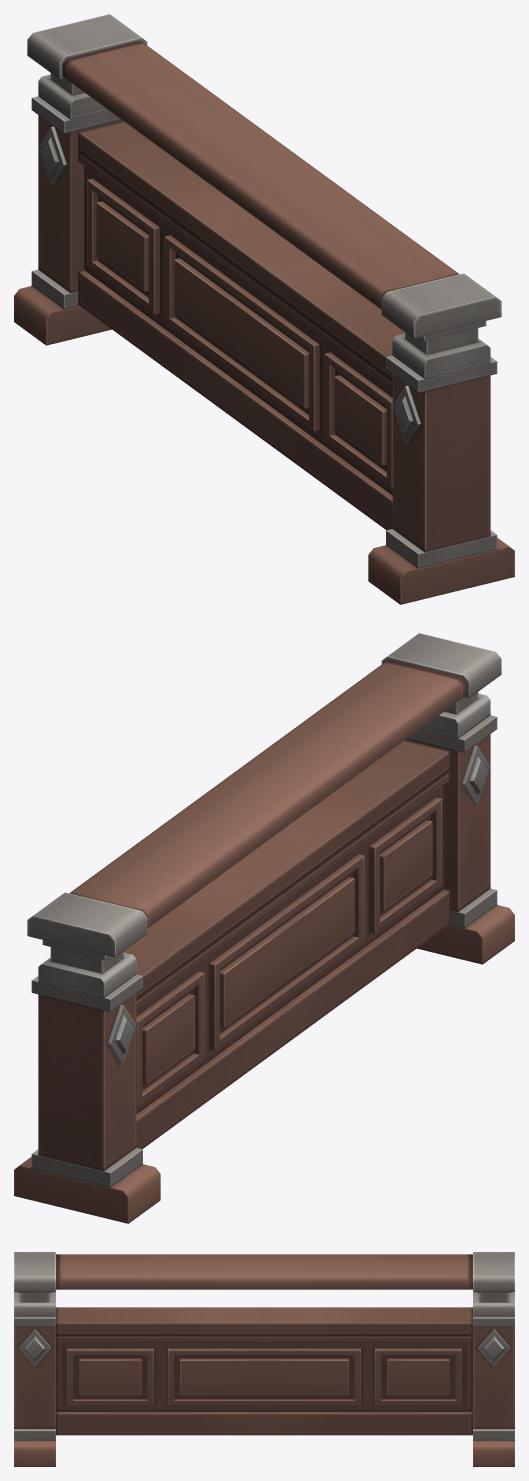
The model's file is my_wildhunt_01_fence_01.glb.
The picture shows the model from 3 angles, top to bottom: view 1: azimuth 30°, elevation 25°; view 2: azimuth 150°, elevation 25°; view 3: azimuth 270°, elevation 25°; orthographic projection. The views are drawn at different scales.
Visible parts, largest first — view 1: my_wildhunt_01_fence_01; view 2: my_wildhunt_01_fence_01; view 3: my_wildhunt_01_fence_01.
Part boxes in pixels (<box>): my_wildhunt_01_fence_01: <box>14,14,514,604</box>; my_wildhunt_01_fence_01: <box>14,633,514,1223</box>; my_wildhunt_01_fence_01: <box>14,1252,514,1466</box>.
Bounding box in the file's own units: 0.00205 × 0.00487 × 0.012.
Materials: 1 (1 with a texture image).
